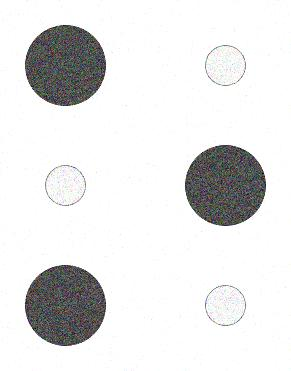O: (19, 18, 271, 352)
